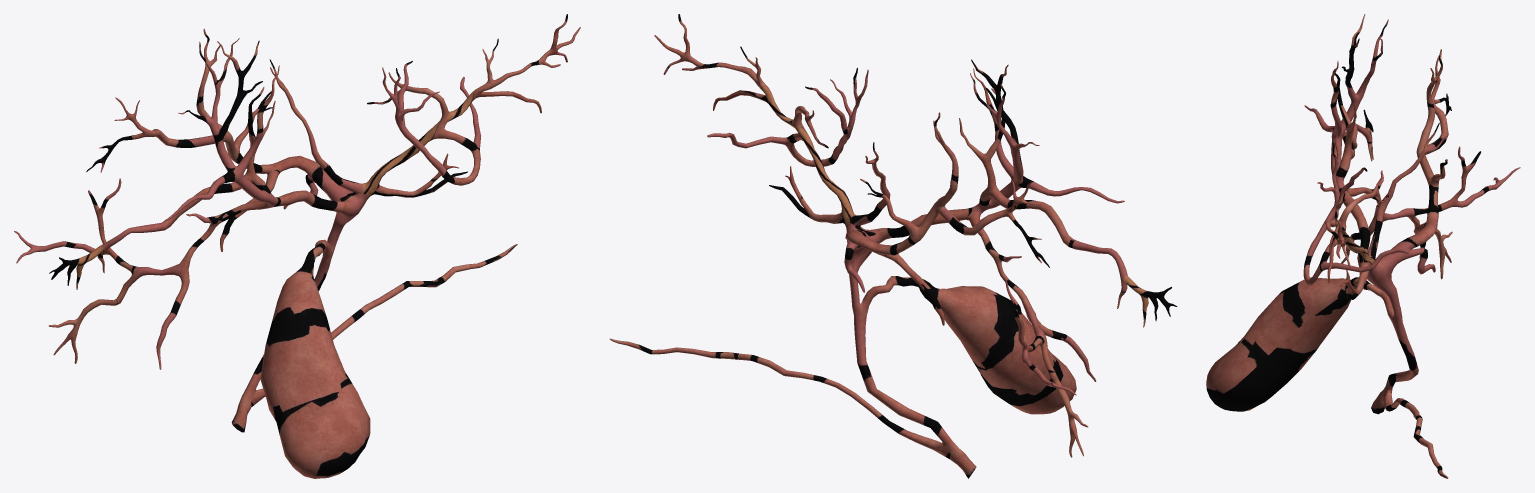
File: Digestive.Vesica_biliaris.Common_bile_duct.obj
The picture shows the model from 3 angles, left to right: view 1: azimuth 30°, elevation 25°; view 2: azimuth 150°, elevation 25°; view 3: azimuth 270°, elevation 25°; orthographic projection. The views are drawn at different scales.
Visible parts, largest first — view 1: Digestive:Vesica_biliaris:Common_bile_duct_Vesica_biliaris.008; view 2: Digestive:Vesica_biliaris:Common_bile_duct_Vesica_biliaris.008; view 3: Digestive:Vesica_biliaris:Common_bile_duct_Vesica_biliaris.008.
Boxes of the visible parts, bbox=[...] form: Digestive:Vesica_biliaris:Common_bile_duct_Vesica_biliaris.008: bbox=[14, 14, 580, 478]; Digestive:Vesica_biliaris:Common_bile_duct_Vesica_biliaris.008: bbox=[610, 14, 1177, 478]; Digestive:Vesica_biliaris:Common_bile_duct_Vesica_biliaris.008: bbox=[1206, 14, 1520, 478].
Size of the model in its own units: 0.8582 by 0.6371 by 0.4704.
